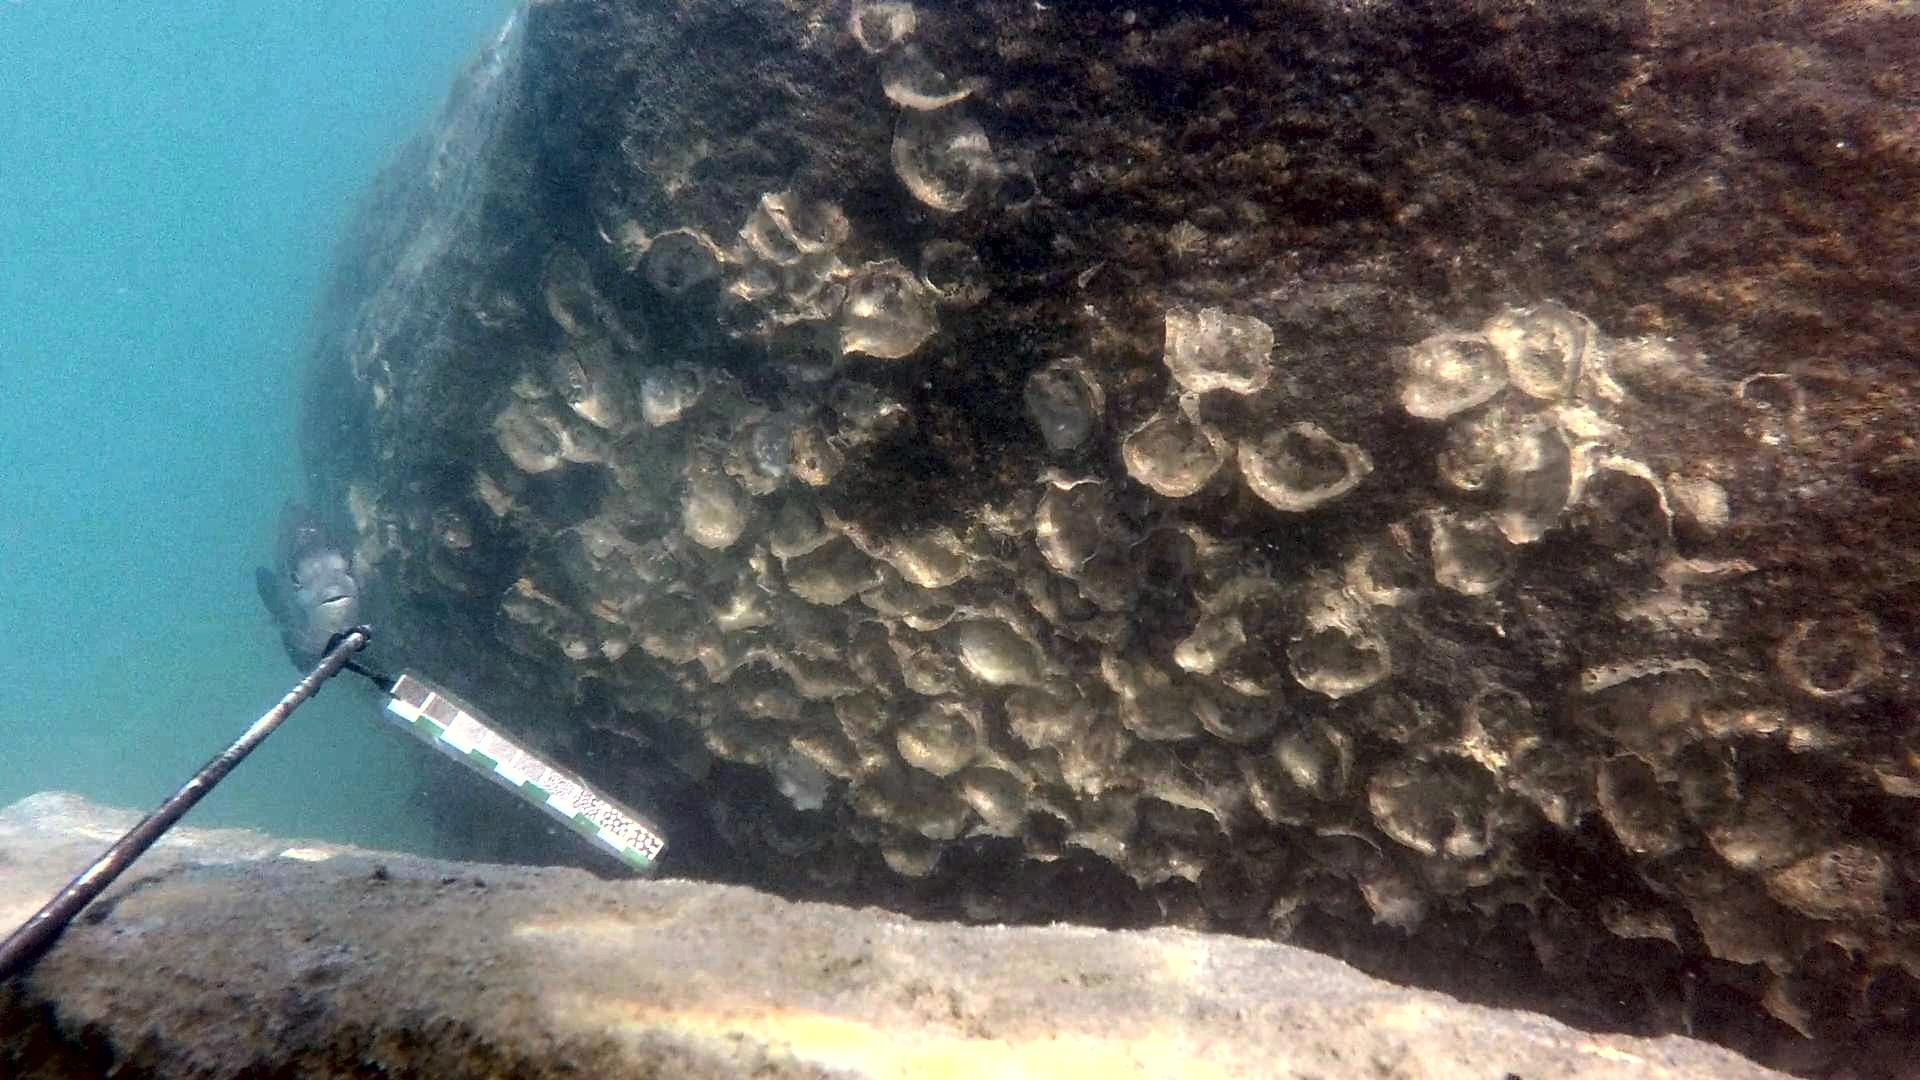acanthopagrus palmaris: (243, 485, 378, 684)
